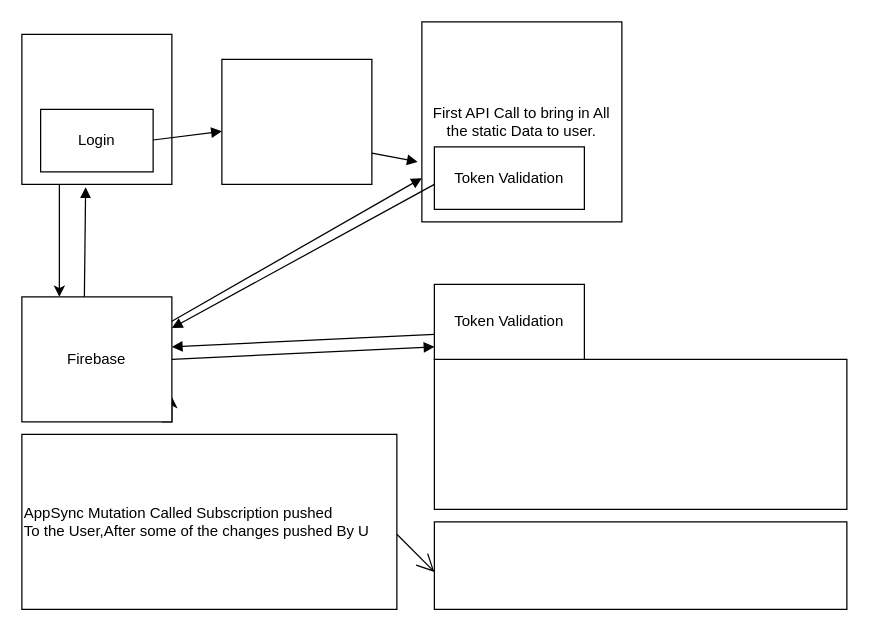
The diagram is 869 pixels wide and 631 high, and some of its shapes have lost their labels. Here are the shapes that lost their labels. From the top down, the centre of each, then its label:
At [296,121]: "User is logged in we need to decide how to give user role ???".
At [640,433]: "Call the API's after validating token".
At [640,565]: "Data To presented to UI".
